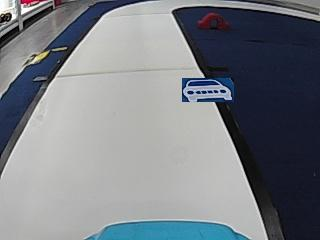bridge: (196, 12, 229, 29)
